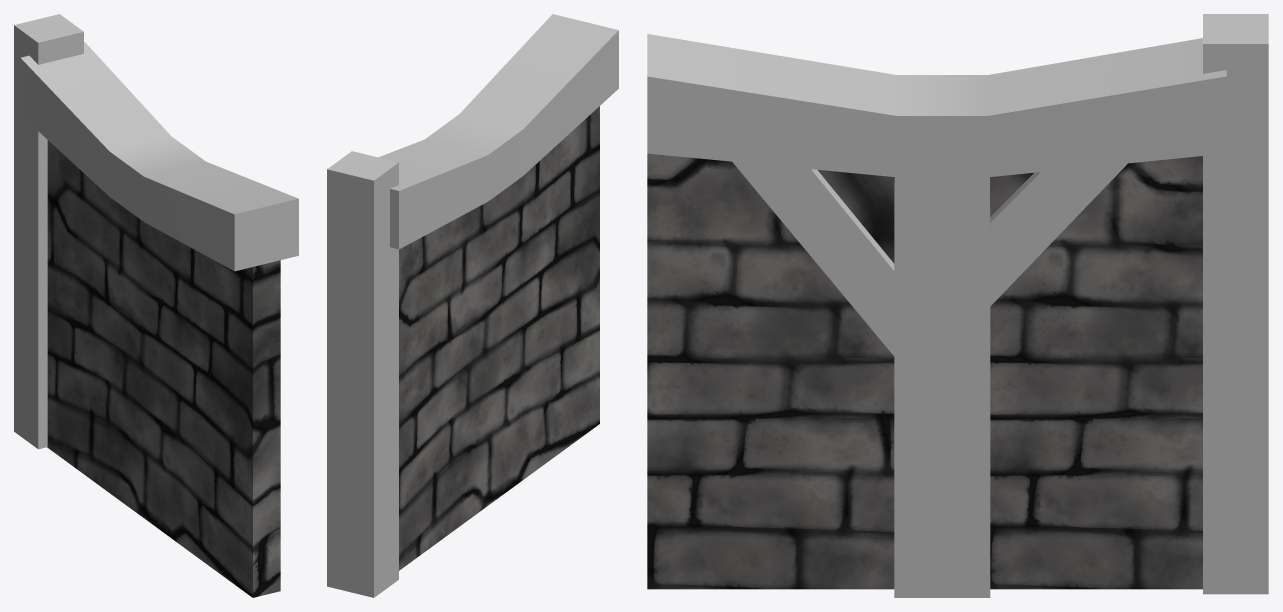
File: muur_3.fbx
The picture shows the model from 3 angles, left to right: view 1: azimuth 30°, elevation 25°; view 2: azimuth 150°, elevation 25°; view 3: azimuth 270°, elevation 25°; orthographic projection. The views are drawn at different scales.
Visible parts, largest first — view 1: muur_3, balk2; view 2: muur_3, balk2; view 3: muur_3, balk2.
Boxes of the visible parts, box(x1,y1,x2,y2) form: muur_3: box(20, 42, 298, 597); balk2: box(14, 14, 83, 449); muur_3: box(378, 14, 618, 570); balk2: box(327, 151, 398, 597); muur_3: box(647, 34, 1226, 597); balk2: box(1203, 14, 1268, 594).
Bounding box in the file's own units: 0.3476 × 2.1 × 2.14.
